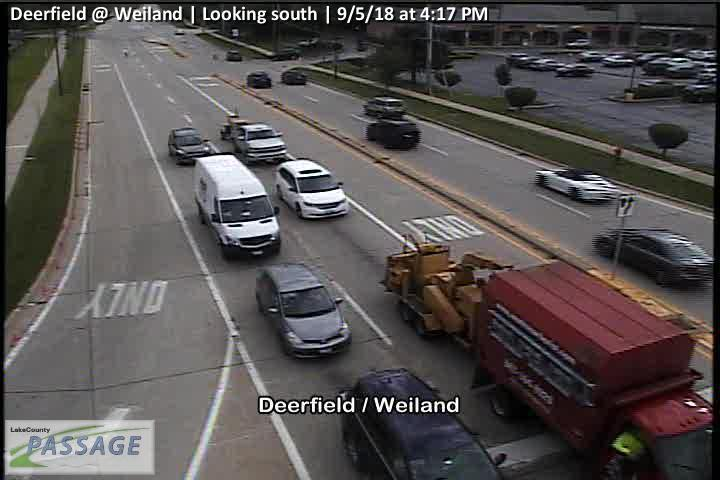SUV: (342, 368, 507, 480), (256, 262, 352, 359), (277, 157, 350, 220), (232, 123, 288, 165), (367, 120, 421, 150), (364, 96, 405, 117), (248, 72, 271, 88), (282, 70, 306, 84), (227, 50, 241, 60)
Sedan: (594, 228, 714, 290), (536, 166, 617, 201), (169, 127, 210, 166), (557, 63, 596, 77), (528, 58, 563, 69), (602, 54, 633, 64), (577, 50, 607, 60), (505, 53, 528, 62)
Truck: (471, 261, 718, 480), (381, 232, 510, 347), (193, 154, 280, 260)
